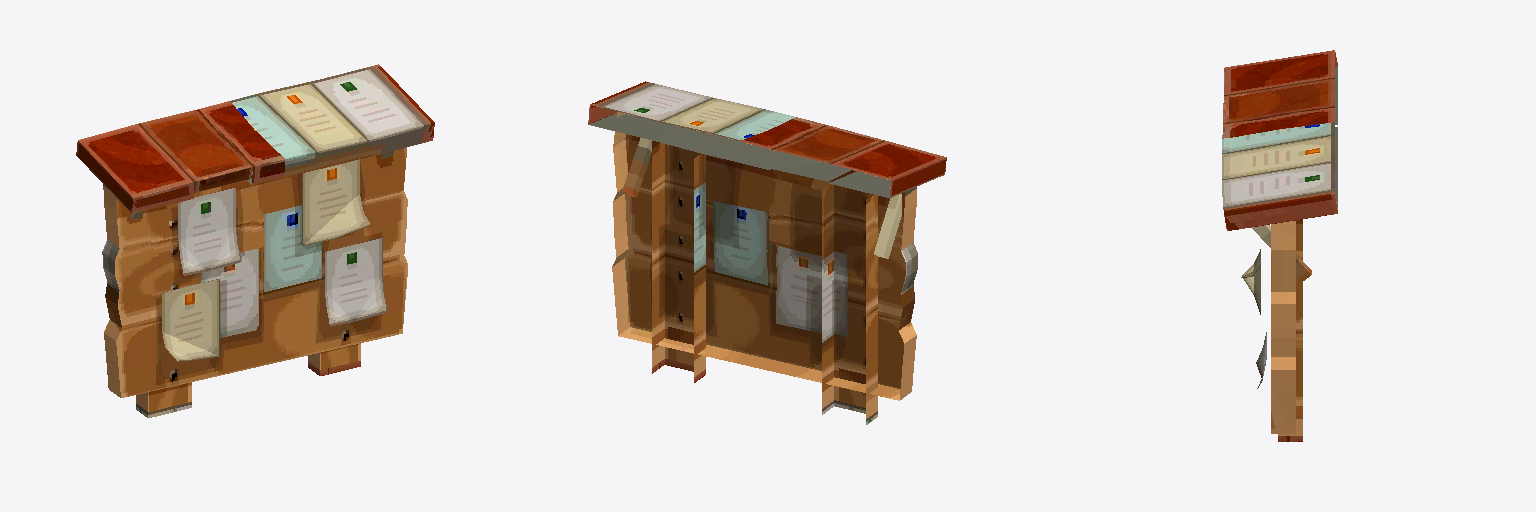
3 views of the same model, side by side, from view 1: azimuth 30°, elevation 25°; view 2: azimuth 150°, elevation 25°; view 3: azimuth 270°, elevation 25° (orthographic).
Visible parts, largest first — view 1: default; view 2: default; view 3: default.
Part boxes in pixels (left/top/right/bottom): default: left=76, top=64, right=434, bottom=417; default: left=588, top=81, right=946, bottom=424; default: left=1222, top=50, right=1337, bottom=441.
Bounding box in the file's own units: 56.04 × 48.03 × 18.81.
Materials: 1 (1 with a texture image).